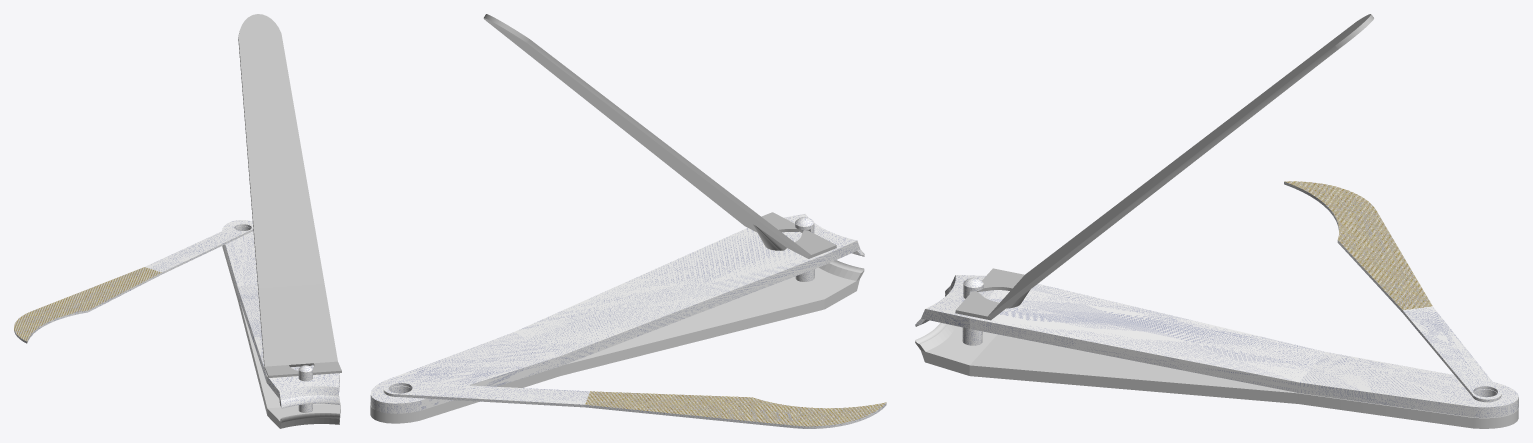
3 views of the same model, side by side, from view 1: azimuth 30°, elevation 25°; view 2: azimuth 150°, elevation 25°; view 3: azimuth 270°, elevation 25° (orthographic). The views are drawn at different scales.
Visible parts, largest first — view 1: PRESSURE_ARM (×5), TOP, FILE_BLADE (×2), BOTTOM; view 2: TOP, BOTTOM, FILE_BLADE (×2), PRESSURE_ARM (×2); view 3: TOP, BOTTOM, FILE_BLADE (×2), PRESSURE_ARM (×3).
Part boxes in pixels (<box>): PRESSURE_ARM (×5): <box>238,14,341,377</box>; TOP: <box>222,220,339,408</box>; FILE_BLADE (×2): <box>14,223,253,343</box>; BOTTOM: <box>222,245,340,428</box>; TOP: <box>370,213,864,413</box>; BOTTOM: <box>370,260,864,423</box>; FILE_BLADE (×2): <box>383,382,886,428</box>; PRESSURE_ARM (×2): <box>491,24,836,258</box>; TOP: <box>915,275,1518,417</box>; BOTTOM: <box>915,322,1518,428</box>; FILE_BLADE (×2): <box>1284,181,1501,402</box>; PRESSURE_ARM (×3): <box>955,22,1355,320</box>.
Bounding box in the file's own units: 4.12 × 4.95 × 3.67.
5 materials, 1 textured.
